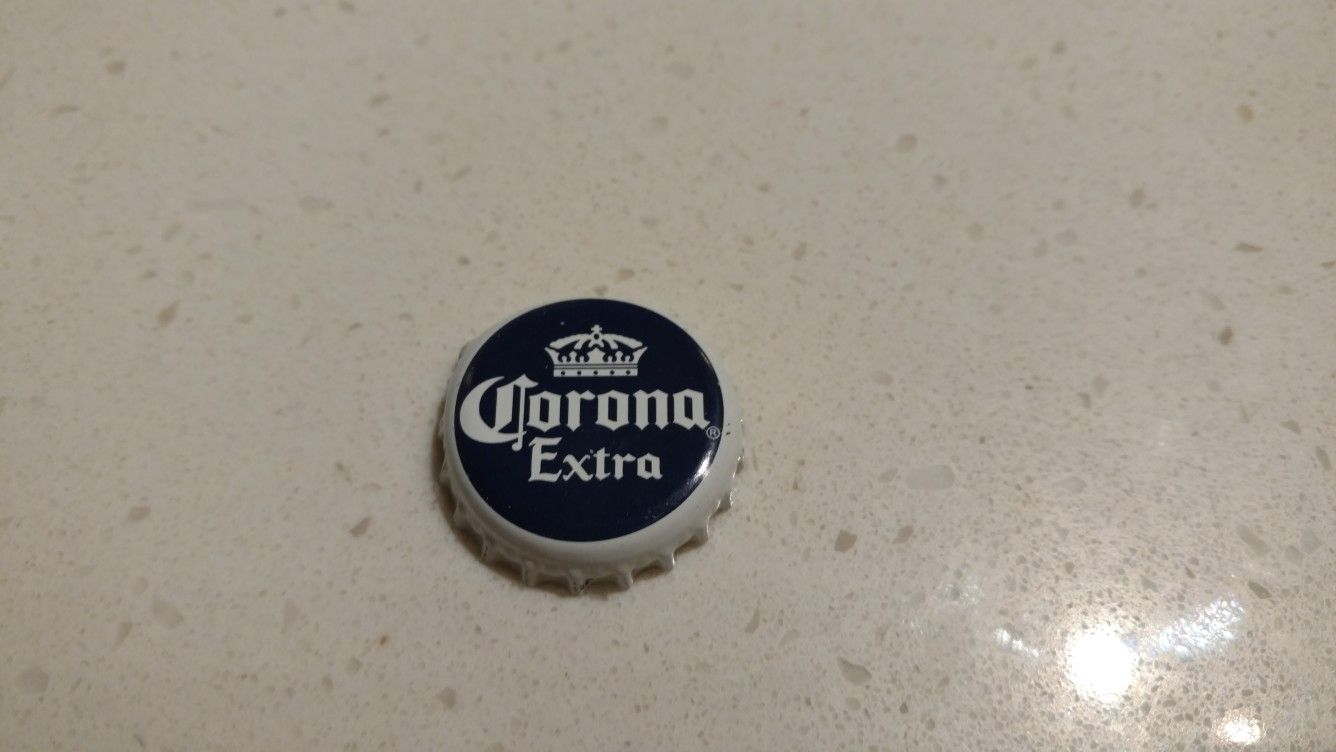corona: (425, 290, 754, 602)
